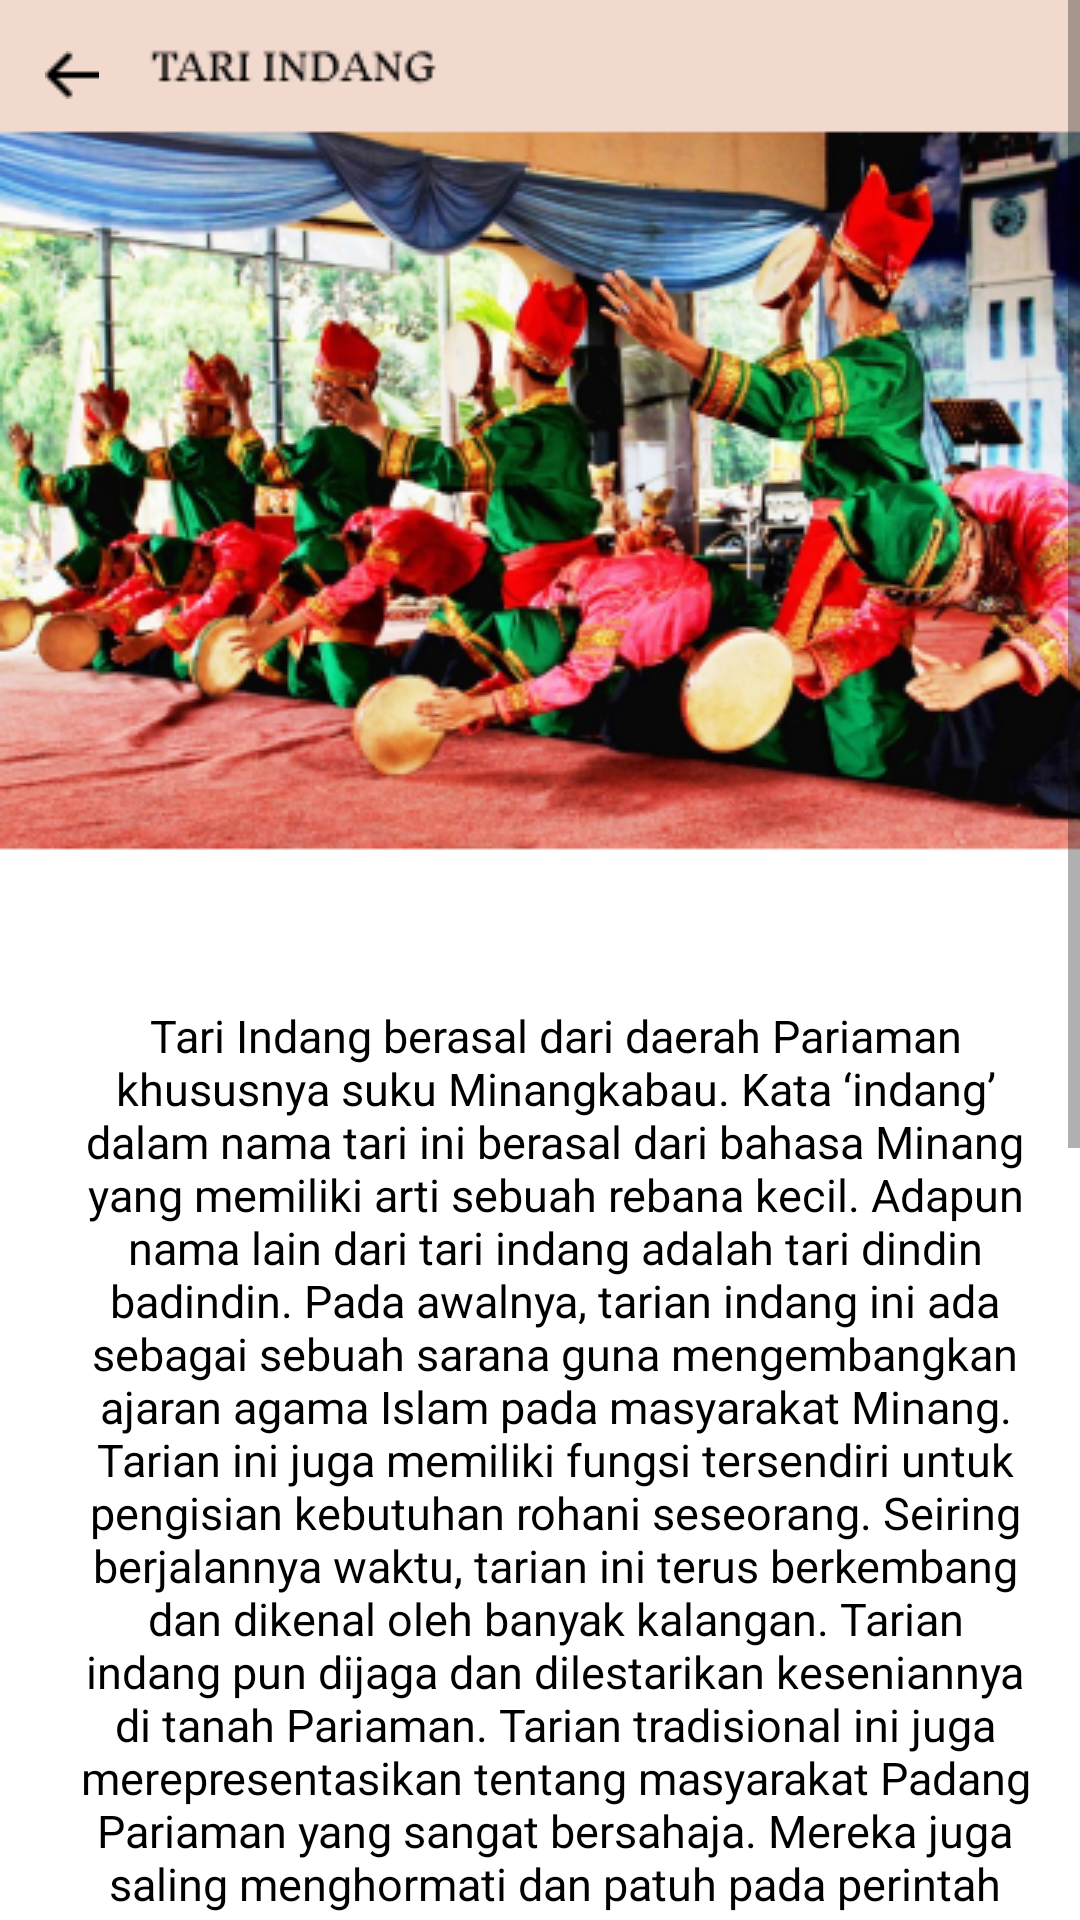

Locate icon controls on the screen. Image size 1080px×1920px, boxes as (x1, y1, x2, y2).
back: (45, 51, 99, 99)
